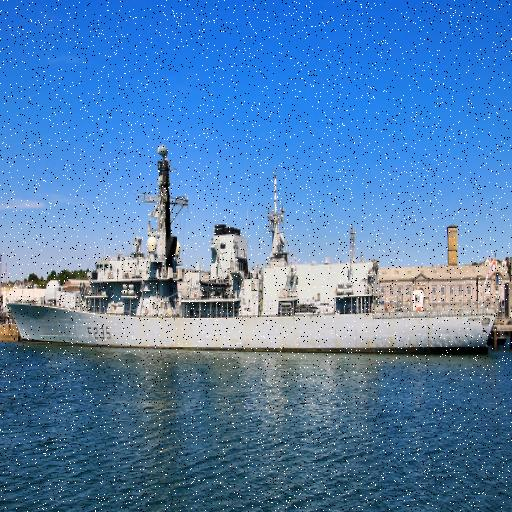Fragata: (7, 138, 498, 349)
